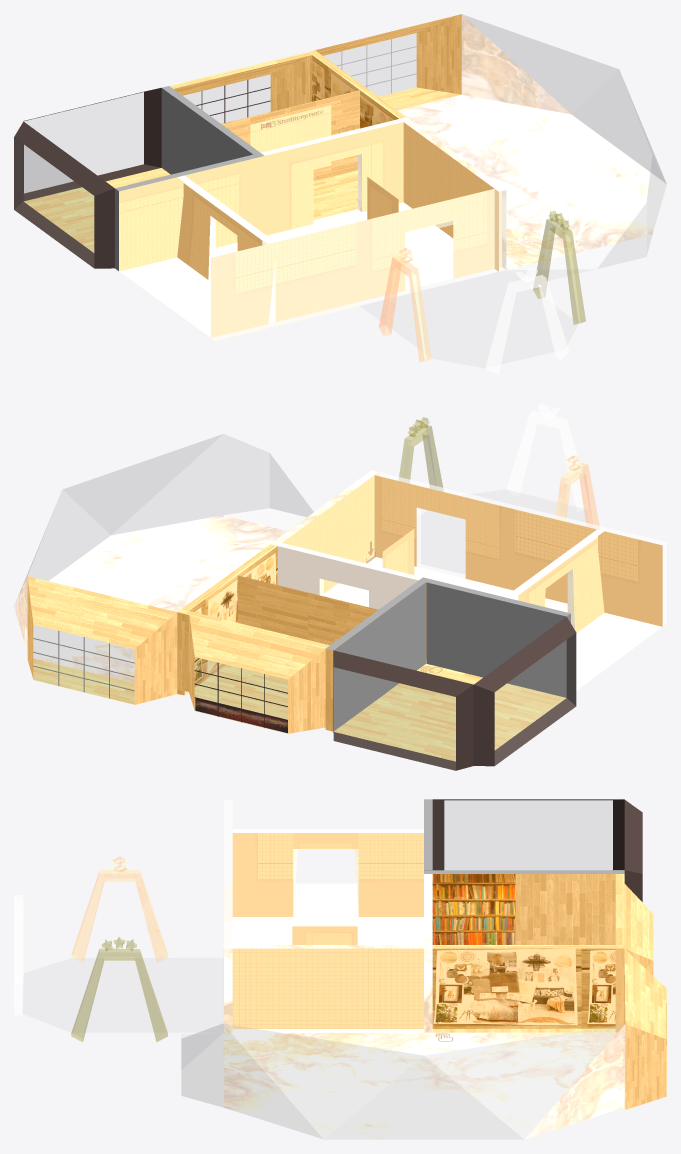
The model's file is escenario.glb.
3 views of the same model, one above another, from view 1: azimuth 30°, elevation 25°; view 2: azimuth 150°, elevation 25°; view 3: azimuth 270°, elevation 25° (orthographic). The views are drawn at different scales.
Visible parts, largest first — view 1: Walls_Main, Floor_Main, MyBackground, Selfnotemesh, Objetoañadido, PuertaDorm, PuertaGallery, PuertaSecreta_Espejo; view 2: Walls_Main, Floor_Main, MyBackground, PuertaSecreta_Espejo, PuertaDorm, Objetoañadido, PuertaGallery; view 3: Walls_Main, Floor_Main, MyBackground, PuertaGallery, PuertaSecreta_Espejo, Objetoañadido.
Boxes of the visible parts, x1,y1,x2,y2 form: Walls_Main: (14, 14, 666, 374); Floor_Main: (14, 87, 666, 367); MyBackground: (403, 122, 498, 271); Selfnotemesh: (250, 105, 331, 169); Objetoañadido: (367, 177, 398, 219); PuertaDorm: (221, 107, 290, 144); PuertaGallery: (360, 90, 398, 128); PuertaSecreta_Espejo: (214, 126, 255, 163); Walls_Main: (14, 403, 666, 770); Floor_Main: (33, 489, 662, 770); MyBackground: (282, 472, 378, 593); PuertaSecreta_Espejo: (387, 582, 425, 691); PuertaDorm: (308, 592, 378, 645); Objetoañadido: (382, 529, 414, 574); PuertaGallery: (238, 546, 277, 584); Walls_Main: (14, 799, 666, 1139); Floor_Main: (23, 883, 666, 1139); MyBackground: (223, 948, 423, 1028); PuertaGallery: (432, 948, 515, 1028); PuertaSecreta_Espejo: (432, 874, 515, 944); Objetoañadido: (292, 926, 357, 944).
Size of what is drawn, in the model's own units: 6.17 by 1.15 by 6.45.
Materials: 33 (27 with a texture image).
